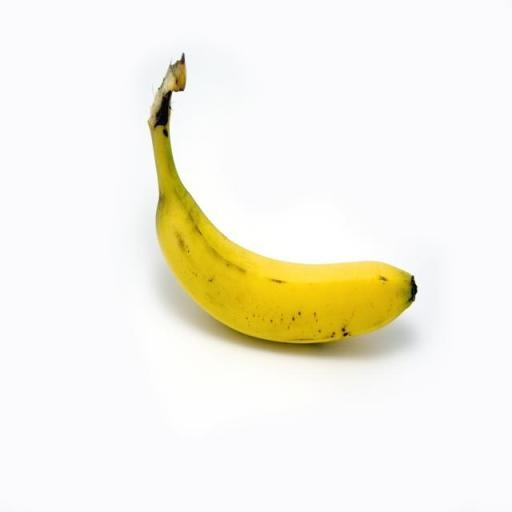fruit: (148, 56, 415, 343)
